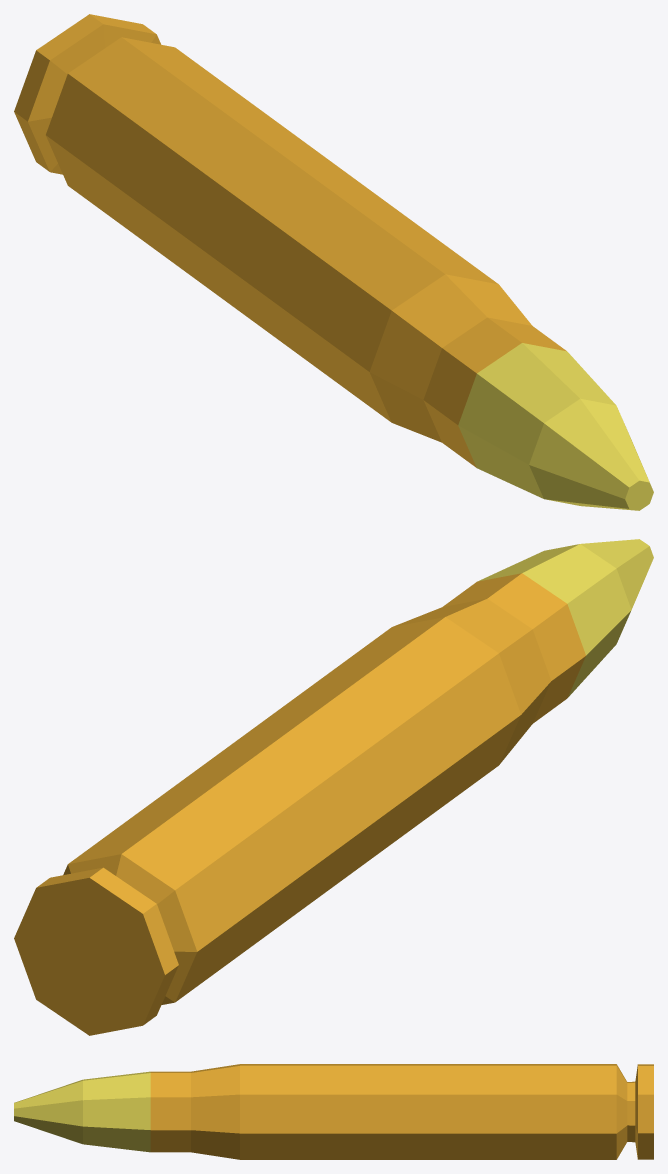
The model's file is M416_Bullet.fbx.
The picture shows the model from 3 angles, top to bottom: view 1: azimuth 30°, elevation 25°; view 2: azimuth 150°, elevation 25°; view 3: azimuth 270°, elevation 25°; orthographic projection. The views are drawn at different scales.
Parts seen in each view (by area): view 1: m416_Bullet; view 2: m416_Bullet; view 3: m416_Bullet.
Part boxes in pixels (x1,y1,x2,y2): m416_Bullet: (14,14,653,510); m416_Bullet: (14,539,653,1035); m416_Bullet: (14,1064,653,1159).
Bounding box in the file's own units: 1.13 × 1.13 × 7.09.
